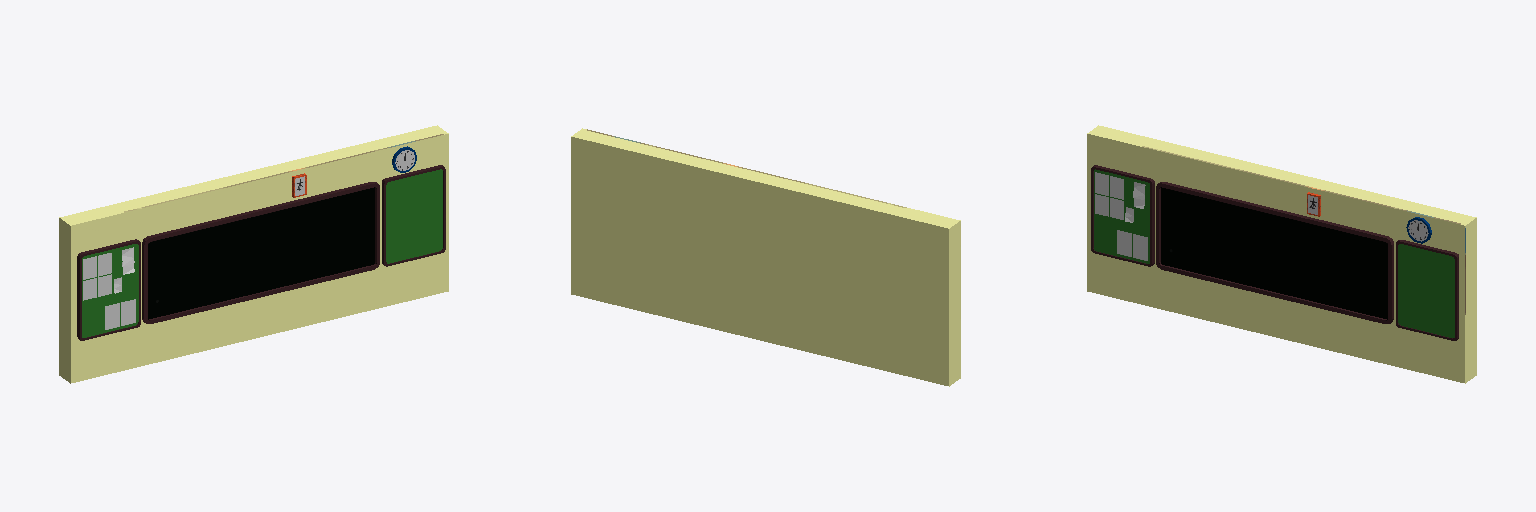
The picture shows the model from 3 angles: view 1: azimuth 30°, elevation 25°; view 2: azimuth 150°, elevation 25°; view 3: azimuth 330°, elevation 25°; orthographic projection.
Visible parts, largest first — view 1: Wall_Desks1_watch; view 2: Wall_Desks1_watch; view 3: Wall_Desks1_watch.
Part boxes in pixels (x1,y1,x2,y2): Wall_Desks1_watch: (59, 125, 448, 383); Wall_Desks1_watch: (571, 128, 960, 386); Wall_Desks1_watch: (1087, 125, 1476, 383).
Size of the model in its own units: 4.83 by 1.93 by 0.3402.
1 materials, 1 textured.